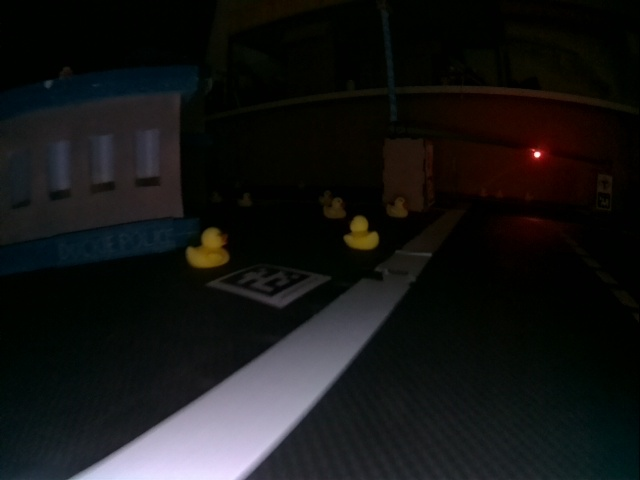Duckie: (187, 230, 228, 266), (346, 218, 379, 247), (388, 198, 408, 218), (325, 199, 346, 217)
QR code: (212, 266, 328, 305)
Traffic light: (534, 150, 542, 159)
